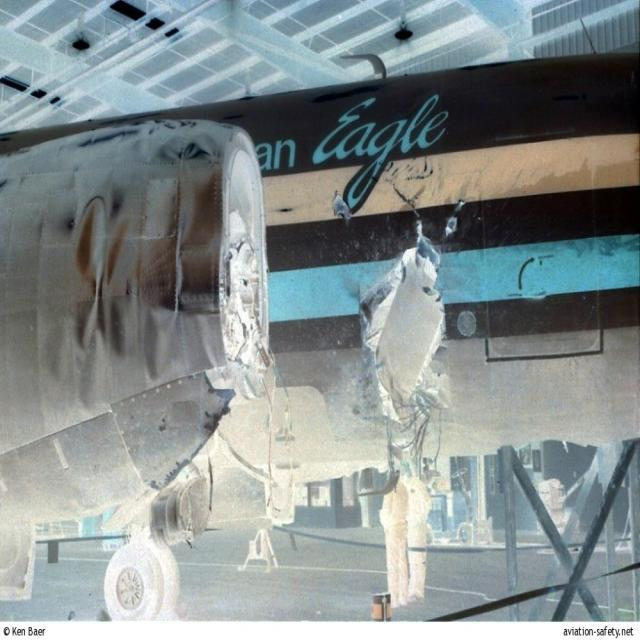dent: (74, 197, 216, 382)
